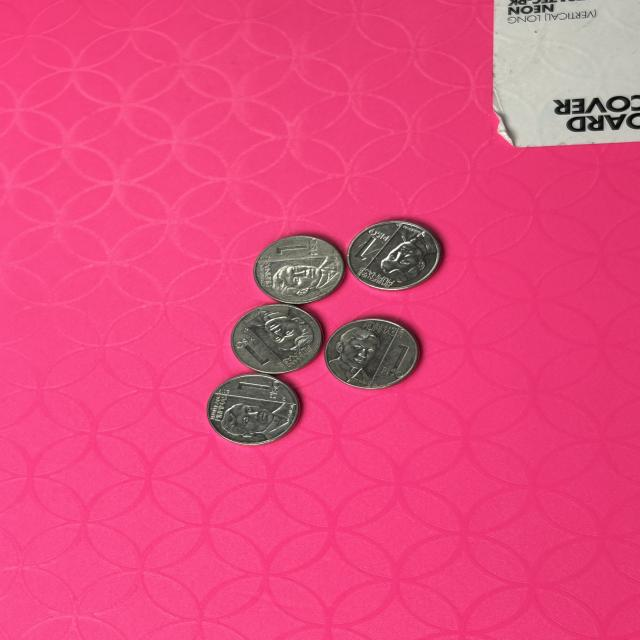1_New_Front: (233, 336, 276, 380), (376, 339, 411, 386), (224, 380, 289, 400), (270, 237, 319, 263), (356, 228, 385, 268)
